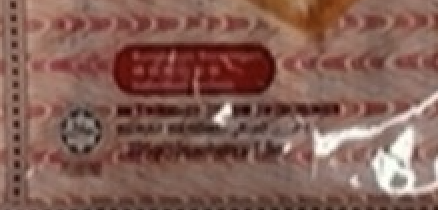halal: (66, 113, 96, 144)
